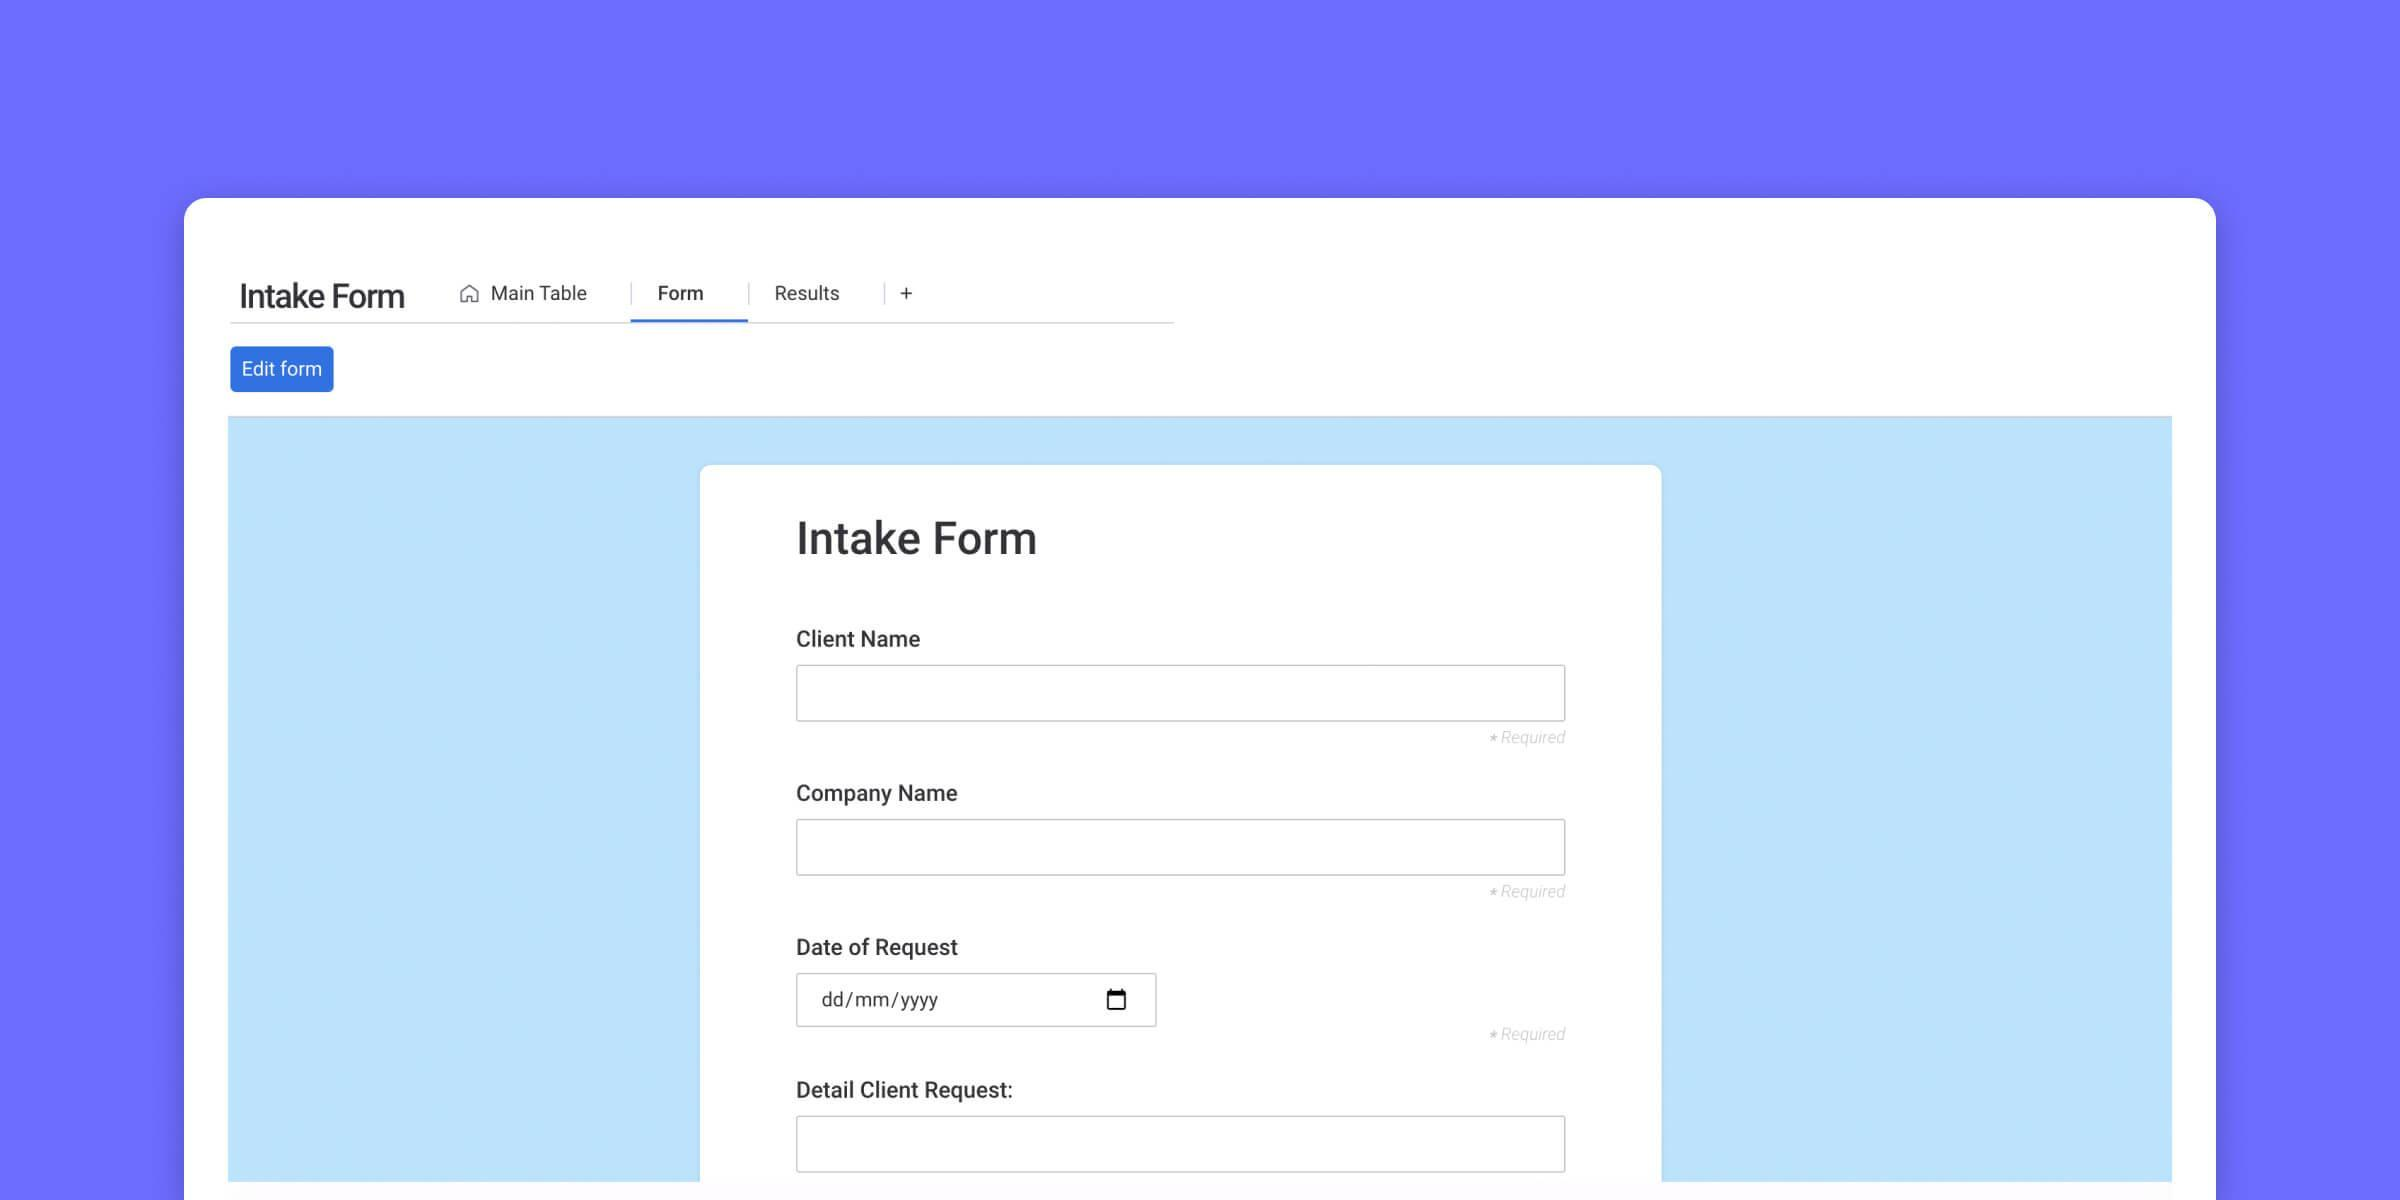button: (230, 341, 337, 393)
input: (791, 814, 1567, 882), (796, 664, 1567, 729), (794, 1117, 1567, 1176), (791, 970, 1166, 1032)
label: (790, 516, 1039, 563), (788, 928, 972, 969), (801, 1078, 1022, 1102), (797, 782, 960, 802), (793, 624, 921, 649)
